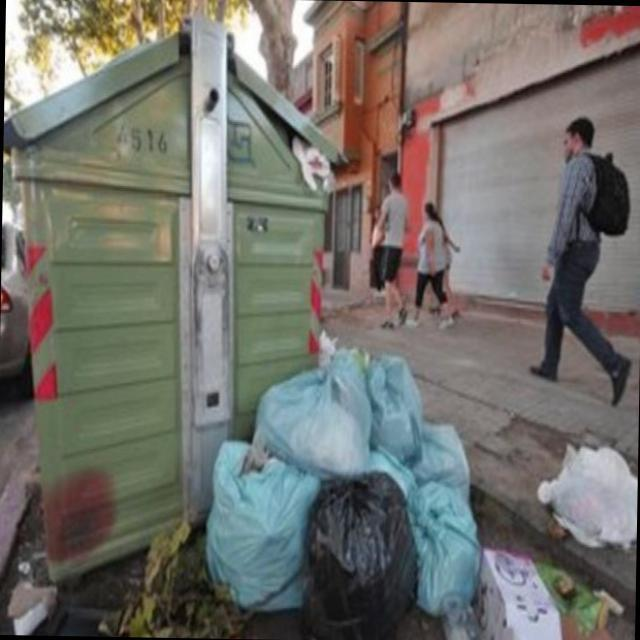garbage: (196, 328, 639, 640), (0, 559, 76, 635), (284, 120, 349, 192)
